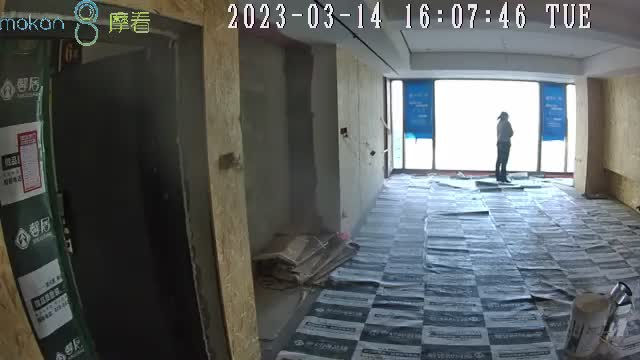people: (495, 110, 514, 185)
window: (386, 78, 574, 177)
